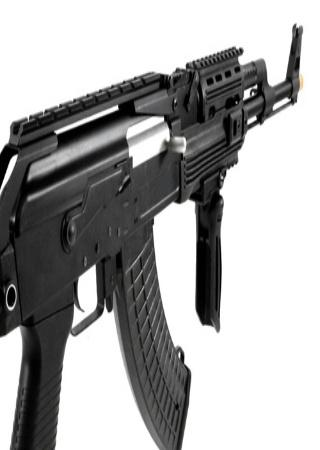weapon: (0, 21, 304, 450)
